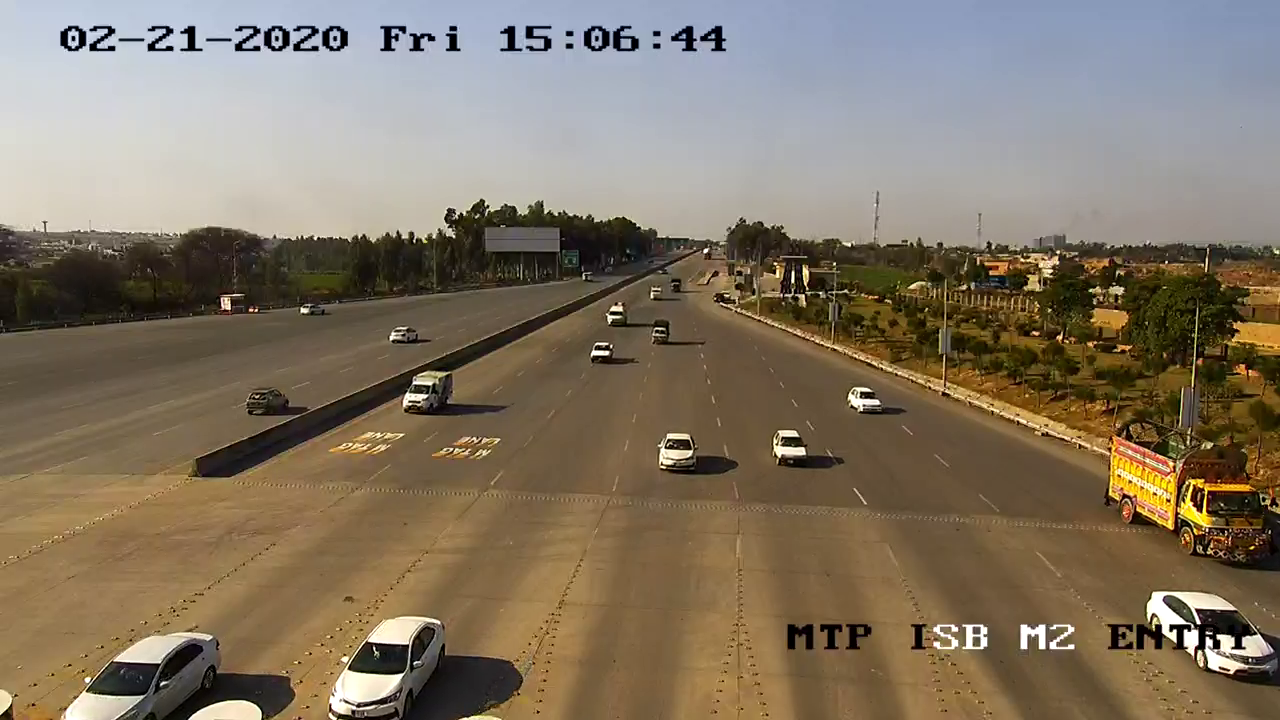f1: (319, 604, 452, 720), (643, 424, 708, 484), (759, 420, 820, 475)
f2: (391, 360, 462, 424)
f5: (1094, 400, 1279, 574)
